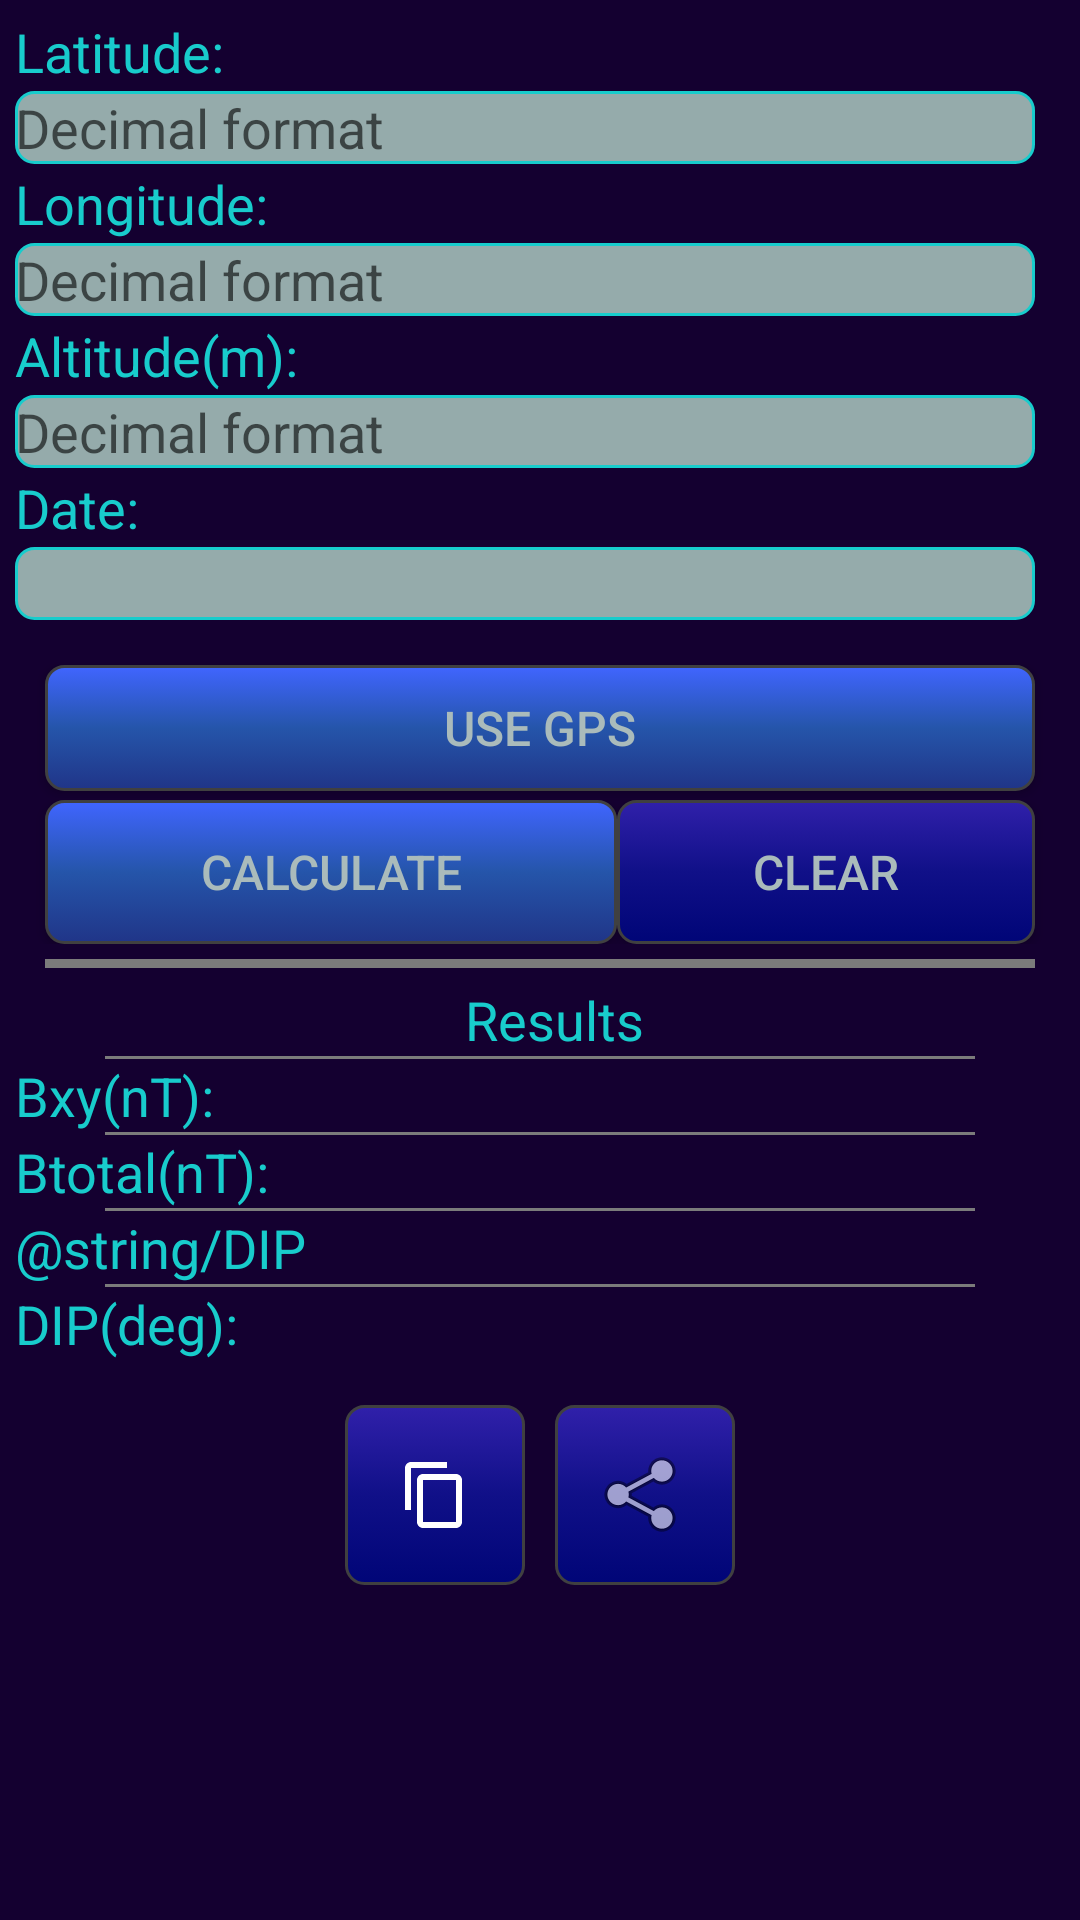

Where icons sit on this 1080 × 1920 app screen, as [x1=x1, y1=y1, x2=x2, y2=y2]:
share: [x1=555, y1=1405, x2=735, y2=1585]
